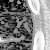node: (26, 1, 42, 17), (34, 31, 45, 50)
